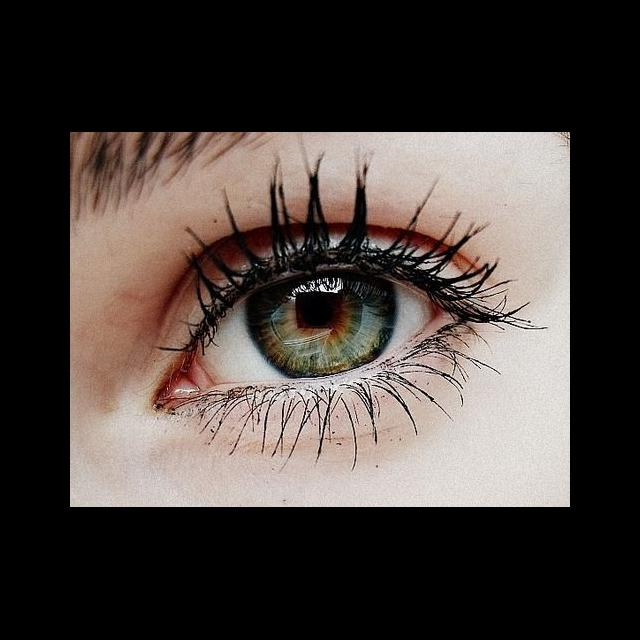eye: (199, 269, 441, 388)
iris: (245, 277, 402, 378)
